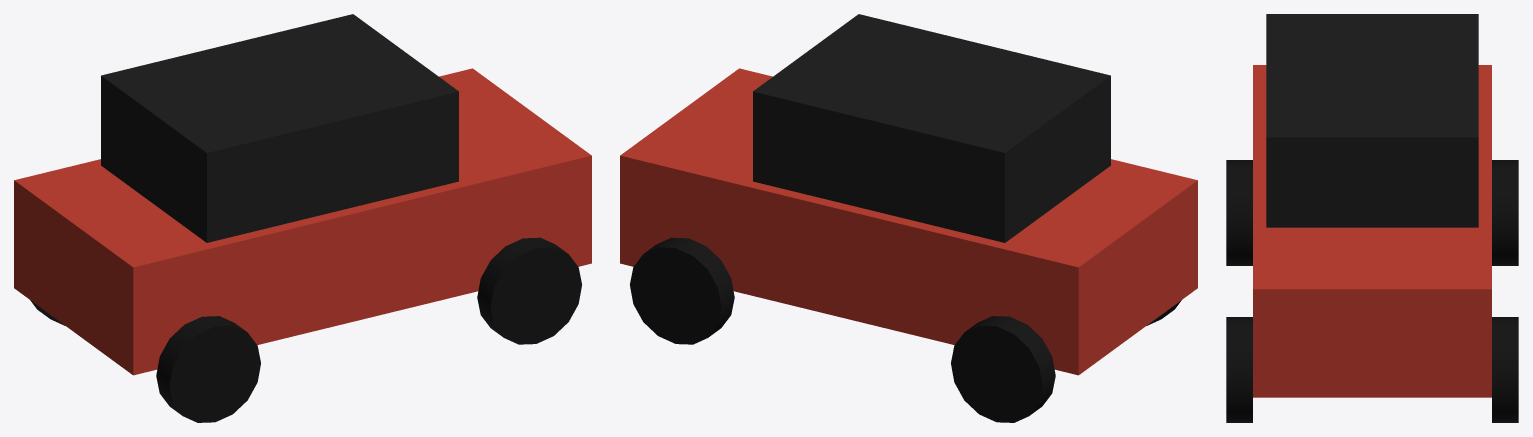
The model's file is sedan.glb.
3 views of the same model, side by side, from view 1: azimuth 30°, elevation 25°; view 2: azimuth 150°, elevation 25°; view 3: azimuth 270°, elevation 25° (orthographic).
Visible parts, largest first — view 1: car; view 2: car; view 3: car.
Boxes of the visible parts, x1,y1,x2,y2 form: car: [14, 14, 591, 422]; car: [620, 14, 1197, 422]; car: [1226, 14, 1518, 422].
Bounding box in the file's own units: 4 × 2.1 × 2.2.
